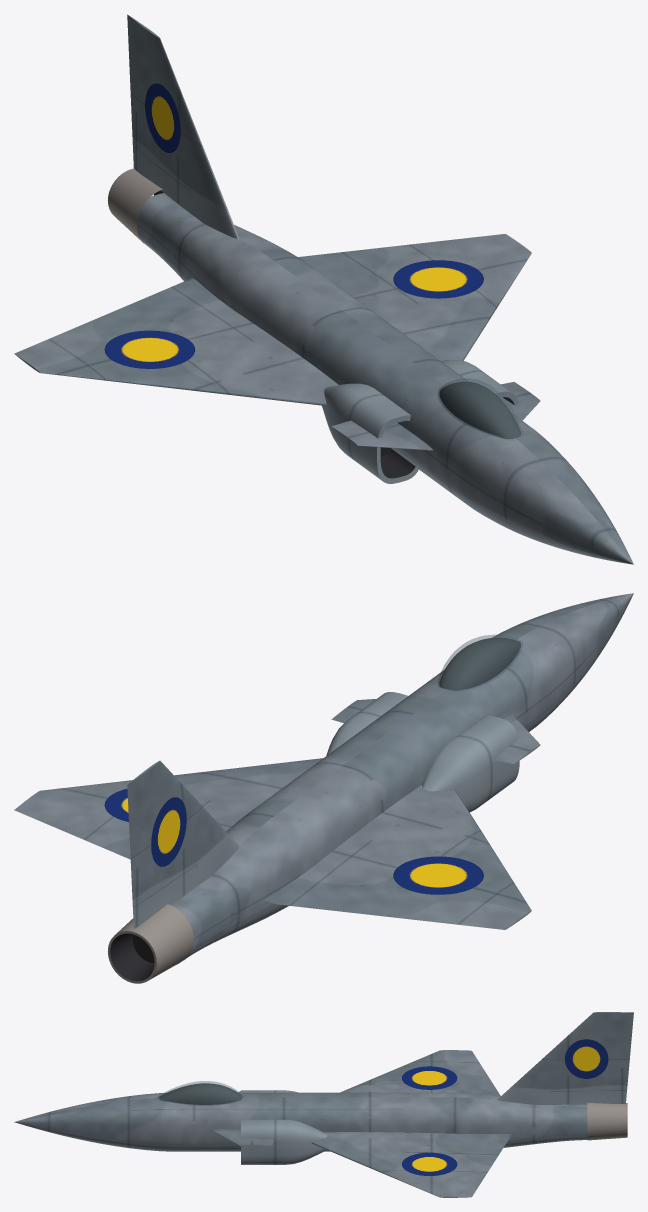
Rendered from 49_JAS39E.glb.
3 renders of one model, top to bottom at view 1: azimuth 30°, elevation 25°; view 2: azimuth 150°, elevation 25°; view 3: azimuth 270°, elevation 25°, orthographic. The views are drawn at different scales.
Visible parts, largest first — view 1: Fuselage, Wing0_R, Wing0_L, Fin2, Intake_R, Canopy, Cockpit, Decal_Wing_U_L, Decal_Wing_U_R, Nozzle, Decal_Fin_a, Canard1_R (+2 smaller); view 2: Fuselage, Wing0_R, Wing0_L, Fin2, Intake_R, Nozzle, Canopy, Decal_Wing_U_R, Cockpit, Decal_Fin_a, Intake_L, Canard1_R (+1 smaller); view 3: Fuselage, Wing0_L, Fin2, Wing0_R, Intake_L, Canopy, Nozzle, Decal_Fin_b, Cockpit, Decal_Wing_U_L, Decal_Wing_U_R, Canard1_L.
Boxes of the visible parts, x1,y1,x2,y2 form: Fuselage: [137, 193, 633, 564]; Wing0_R: [14, 278, 338, 405]; Wing0_L: [298, 233, 531, 360]; Fin2: [127, 14, 239, 239]; Intake_R: [322, 383, 418, 483]; Canopy: [438, 378, 522, 440]; Cockpit: [439, 381, 520, 438]; Decal_Wing_U_L: [393, 260, 483, 298]; Decal_Wing_U_R: [104, 330, 195, 368]; Nozzle: [108, 168, 163, 243]; Decal_Fin_a: [145, 83, 180, 152]; Canard1_R: [331, 420, 432, 450]; Fuselage: [171, 593, 633, 964]; Wing0_R: [261, 785, 531, 929]; Wing0_L: [14, 758, 323, 859]; Fin2: [127, 760, 239, 928]; Intake_R: [422, 715, 519, 812]; Nozzle: [108, 904, 193, 983]; Canopy: [438, 635, 522, 690]; Decal_Wing_U_R: [393, 856, 483, 894]; Cockpit: [439, 637, 520, 690]; Decal_Fin_a: [151, 797, 186, 866]; Intake_L: [326, 692, 407, 755]; Canard1_R: [492, 714, 540, 763]; Fuselage: [14, 1092, 593, 1151]; Wing0_L: [311, 1132, 511, 1197]; Fin2: [497, 1012, 633, 1104]; Wing0_R: [340, 1050, 500, 1095]; Intake_L: [241, 1119, 327, 1164]; Canopy: [157, 1081, 242, 1105]; Nozzle: [587, 1103, 627, 1140]; Decal_Fin_b: [565, 1039, 608, 1078]; Cockpit: [159, 1083, 242, 1104]; Decal_Wing_U_L: [402, 1152, 457, 1175]; Decal_Wing_U_R: [402, 1066, 457, 1089]; Canard1_L: [211, 1129, 273, 1146].
Size of the model in its own units: 8.6 by 3.7 by 15.36.
6 materials, 2 textured.
